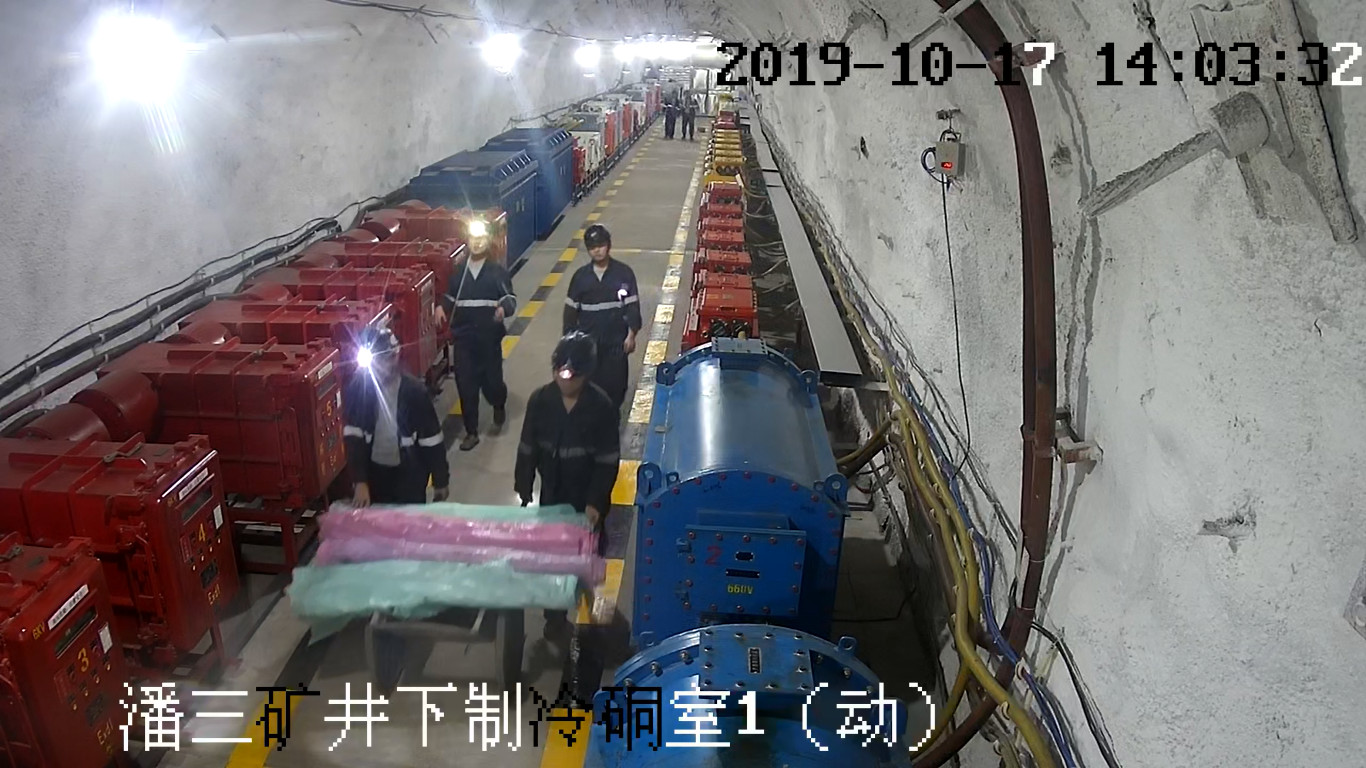helmet: (552, 330, 597, 380), (351, 325, 403, 368), (464, 215, 497, 237), (584, 225, 611, 250), (683, 89, 692, 95), (671, 88, 679, 93)
